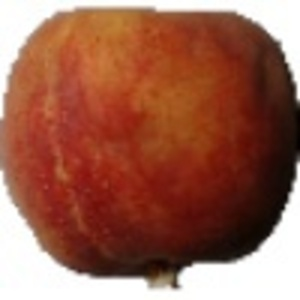pêssego: (1, 1, 300, 292)
